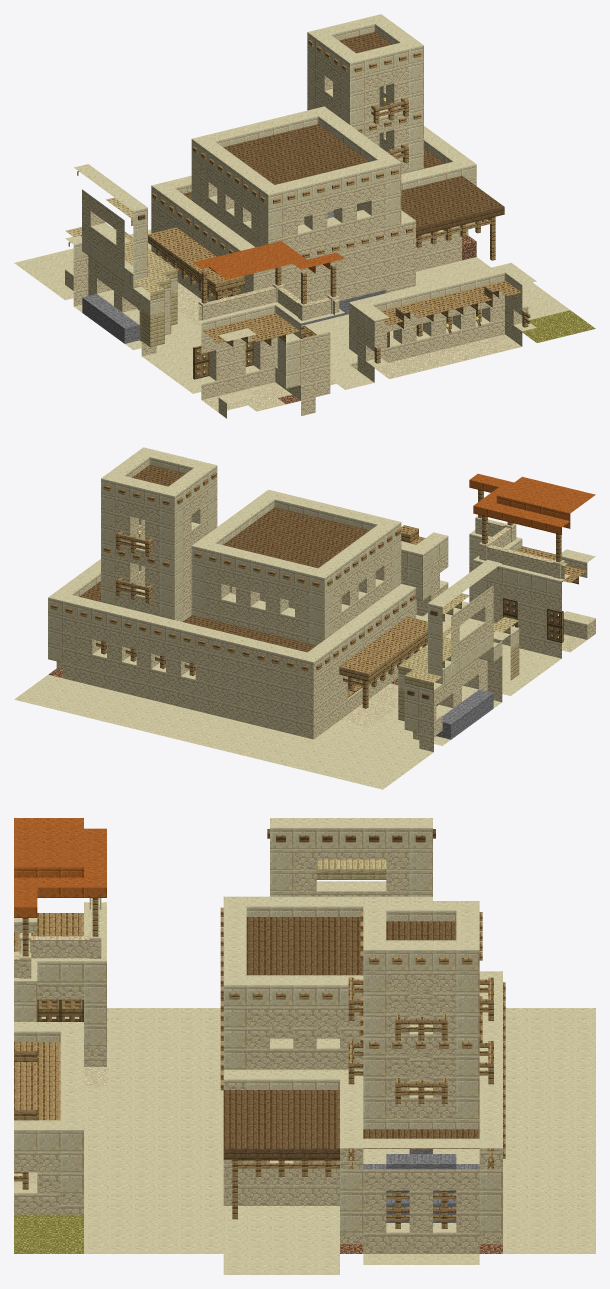
File: chunk-50-25-lvl-1-transformed.glb
The picture shows the model from 3 angles, top to bottom: view 1: azimuth 30°, elevation 25°; view 2: azimuth 150°, elevation 25°; view 3: azimuth 270°, elevation 25°; orthographic projection. The views are drawn at different scales.
Visible parts, largest first — view 1: Sandstone, Cut_Sandstone, Spruce_Slab, Sand, Oak_Slab, Fence, Sandstone_Wall, Stone, Oak_Button, Petrified_Oak_Slab, Cut_Red_Sandstone, Birch_Slab (+4 smaller); view 2: Sandstone, Cut_Sandstone, Spruce_Slab, Oak_Slab, Fence, Cut_Red_Sandstone, Oak_Button, Sandstone_Wall, Cut_Red_Sandstone_Slab, Birch_Slab, Sand, Stone (+2 smaller); view 3: Sandstone, Cut_Sandstone, Spruce_Slab, Fence, Cut_Red_Sandstone, Cut_Red_Sandstone_Slab, Oak_Button, Grass_Block, Petrified_Oak_Slab, Sandstone_Wall, Stone, Birch_Slab (+5 smaller).
Boxes of the visible parts, x1,y1,x2,y2 form: Sandstone: [14, 54, 569, 418]; Cut_Sandstone: [65, 14, 536, 388]; Spruce_Slab: [183, 31, 504, 235]; Sand: [177, 282, 521, 412]; Oak_Slab: [148, 227, 300, 346]; Fence: [156, 98, 530, 363]; Sandstone_Wall: [196, 283, 339, 320]; Stone: [82, 211, 386, 343]; Oak_Button: [152, 40, 421, 258]; Petrified_Oak_Slab: [380, 280, 521, 324]; Cut_Red_Sandstone: [201, 243, 300, 279]; Birch_Slab: [65, 197, 177, 300]; Sandstone: [14, 487, 595, 789]; Cut_Sandstone: [48, 447, 569, 732]; Spruce_Slab: [79, 465, 369, 652]; Oak_Slab: [339, 546, 586, 681]; Fence: [96, 490, 561, 708]; Cut_Red_Sandstone: [496, 476, 595, 528]; Oak_Button: [50, 472, 415, 671]; Sandstone_Wall: [475, 516, 567, 579]; Cut_Red_Sandstone_Slab: [469, 473, 569, 534]; Birch_Slab: [398, 593, 518, 690]; Sand: [339, 618, 586, 727]; Stone: [130, 649, 493, 739]; Sandstone: [14, 849, 595, 1274]; Cut_Sandstone: [14, 818, 502, 1232]; Spruce_Slab: [223, 917, 479, 1159]; Fence: [14, 898, 493, 1228]; Cut_Red_Sandstone: [14, 818, 83, 877]; Cut_Red_Sandstone_Slab: [14, 828, 106, 917]; Oak_Button: [220, 907, 505, 1158]; Grass_Block: [14, 1214, 83, 1253]; Petrified_Oak_Slab: [14, 1042, 60, 1120]; Sandstone_Wall: [14, 898, 101, 978]; Stone: [363, 1149, 479, 1222]; Birch_Slab: [316, 859, 386, 879].
Bounding box in the file's own units: 25 × 14 × 25.
19 materials, 19 textured.
